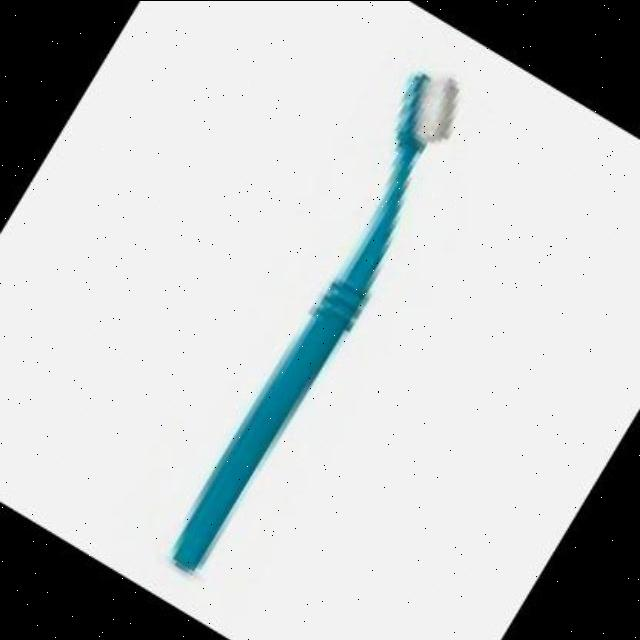toothbrush: (95, 28, 533, 622)
